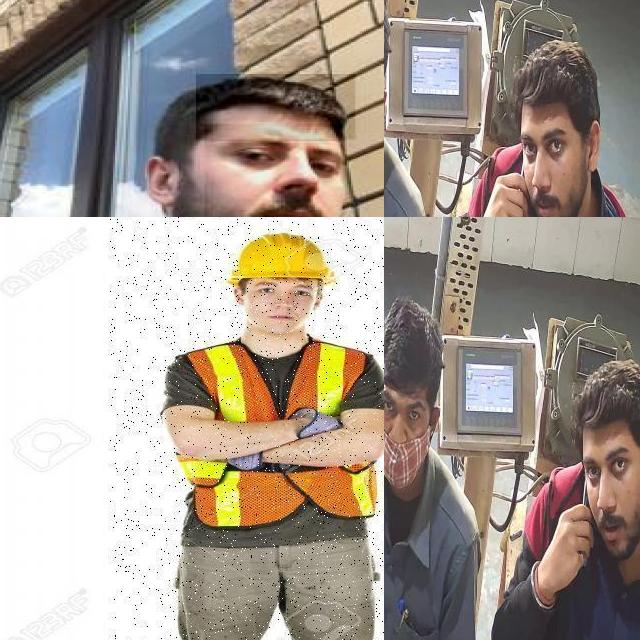No_Ear-Protection: (138, 155, 182, 206), (582, 116, 607, 173)
No_Glasses: (214, 125, 356, 187), (513, 119, 580, 161), (249, 280, 321, 308)
face_mask: (384, 394, 429, 490)
face_nomask: (204, 123, 346, 217), (580, 451, 640, 550), (519, 126, 581, 217)
hand_noglove: (544, 502, 598, 580), (469, 170, 532, 217)
head_helmet: (225, 234, 337, 288)
head_nohelmet: (196, 74, 357, 141), (510, 38, 601, 116), (574, 354, 640, 442), (384, 306, 447, 393)
person: (110, 217, 384, 640), (492, 350, 640, 640), (431, 37, 640, 217), (384, 298, 476, 640)
vest: (177, 339, 379, 528)
